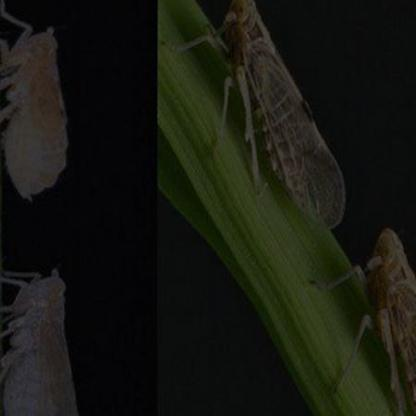brown-planthopper: (205, 0, 341, 228), (2, 8, 70, 198), (357, 221, 416, 416), (3, 265, 78, 416)
